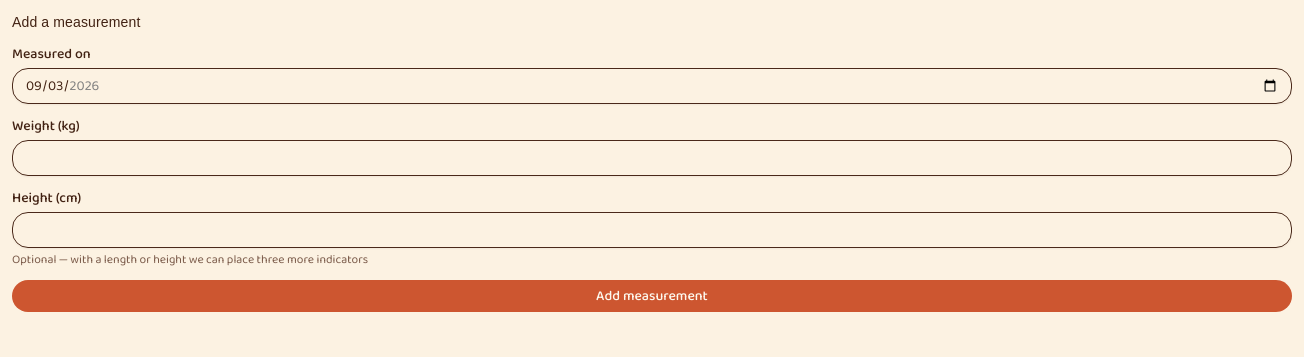
Test: LogMeasurementForm › shows the server's own reason on a 422 or 409, and the generic line otherwise
The image size is (1304, 357).
Type "8.5" into the number field labelled "Weight (kg)" at (652, 158), box [12,140,1292,176]
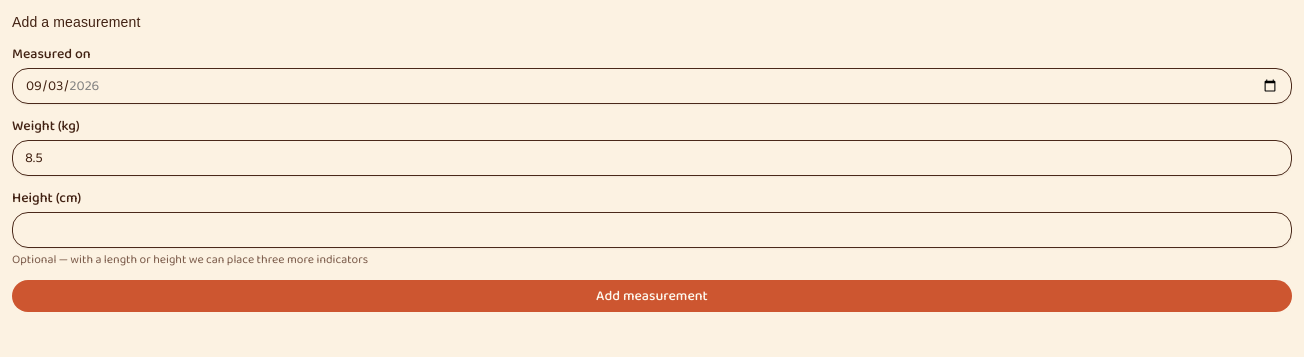
Click the button "Add measurement" at (652, 296), box [12,280,1292,312]
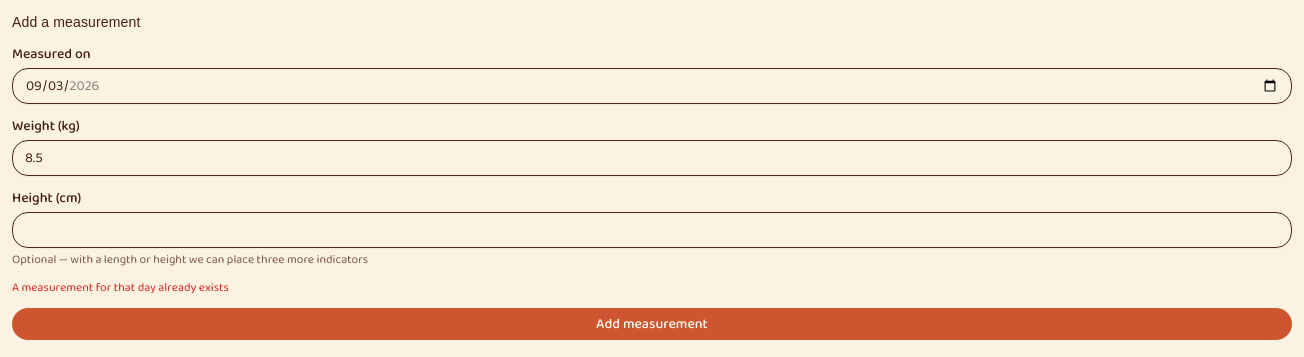
Expected: the message reads "A measurement for that day already exists", [12,278,229,297]
